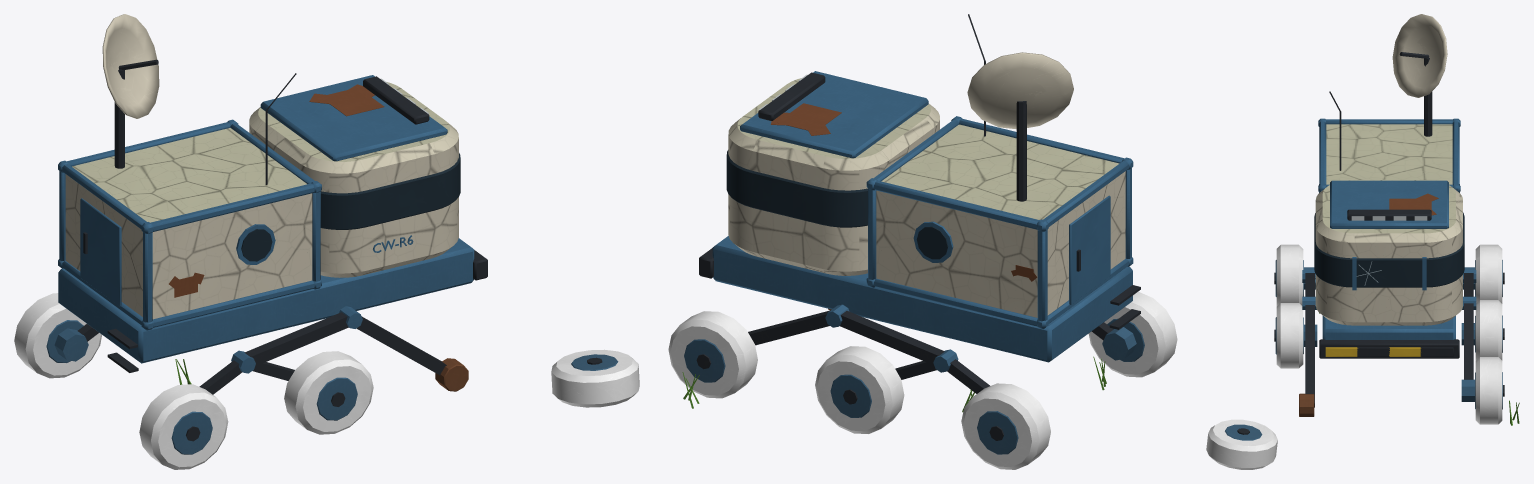
The model's file is colony_rover_wreck.glb.
3 views of the same model, side by side, from view 1: azimuth 30°, elevation 25°; view 2: azimuth 150°, elevation 25°; view 3: azimuth 270°, elevation 25° (orthographic). The views are drawn at different scales.
Visible parts, largest first — view 1: colony_rover_wreck; view 2: colony_rover_wreck; view 3: colony_rover_wreck.
Part boxes in pixels (bbox=[...]): colony_rover_wreck: bbox=[14, 14, 639, 469]; colony_rover_wreck: bbox=[668, 14, 1177, 469]; colony_rover_wreck: bbox=[1206, 14, 1519, 469].
Bounding box in the file's own units: 6.01 × 4.76 × 4.47.
17 materials, 17 textured.
